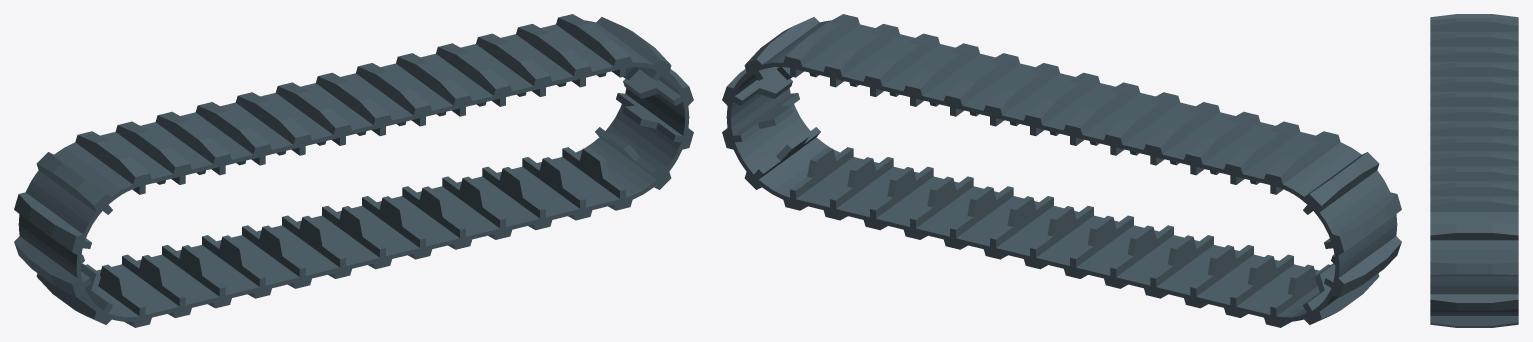
3 renders of one model, left to right at view 1: azimuth 30°, elevation 25°; view 2: azimuth 150°, elevation 25°; view 3: azimuth 270°, elevation 25°, orthographic. The views are drawn at different scales.
Parts seen in each view (by area): view 1: world; view 2: world; view 3: world.
Part boxes in pixels (x1,y1,x2,y2): world: (14,14,693,327); world: (722,14,1401,327); world: (1430,14,1518,327).
Bounding box in the file's own units: 0.1257 × 0.0304 × 0.02.
